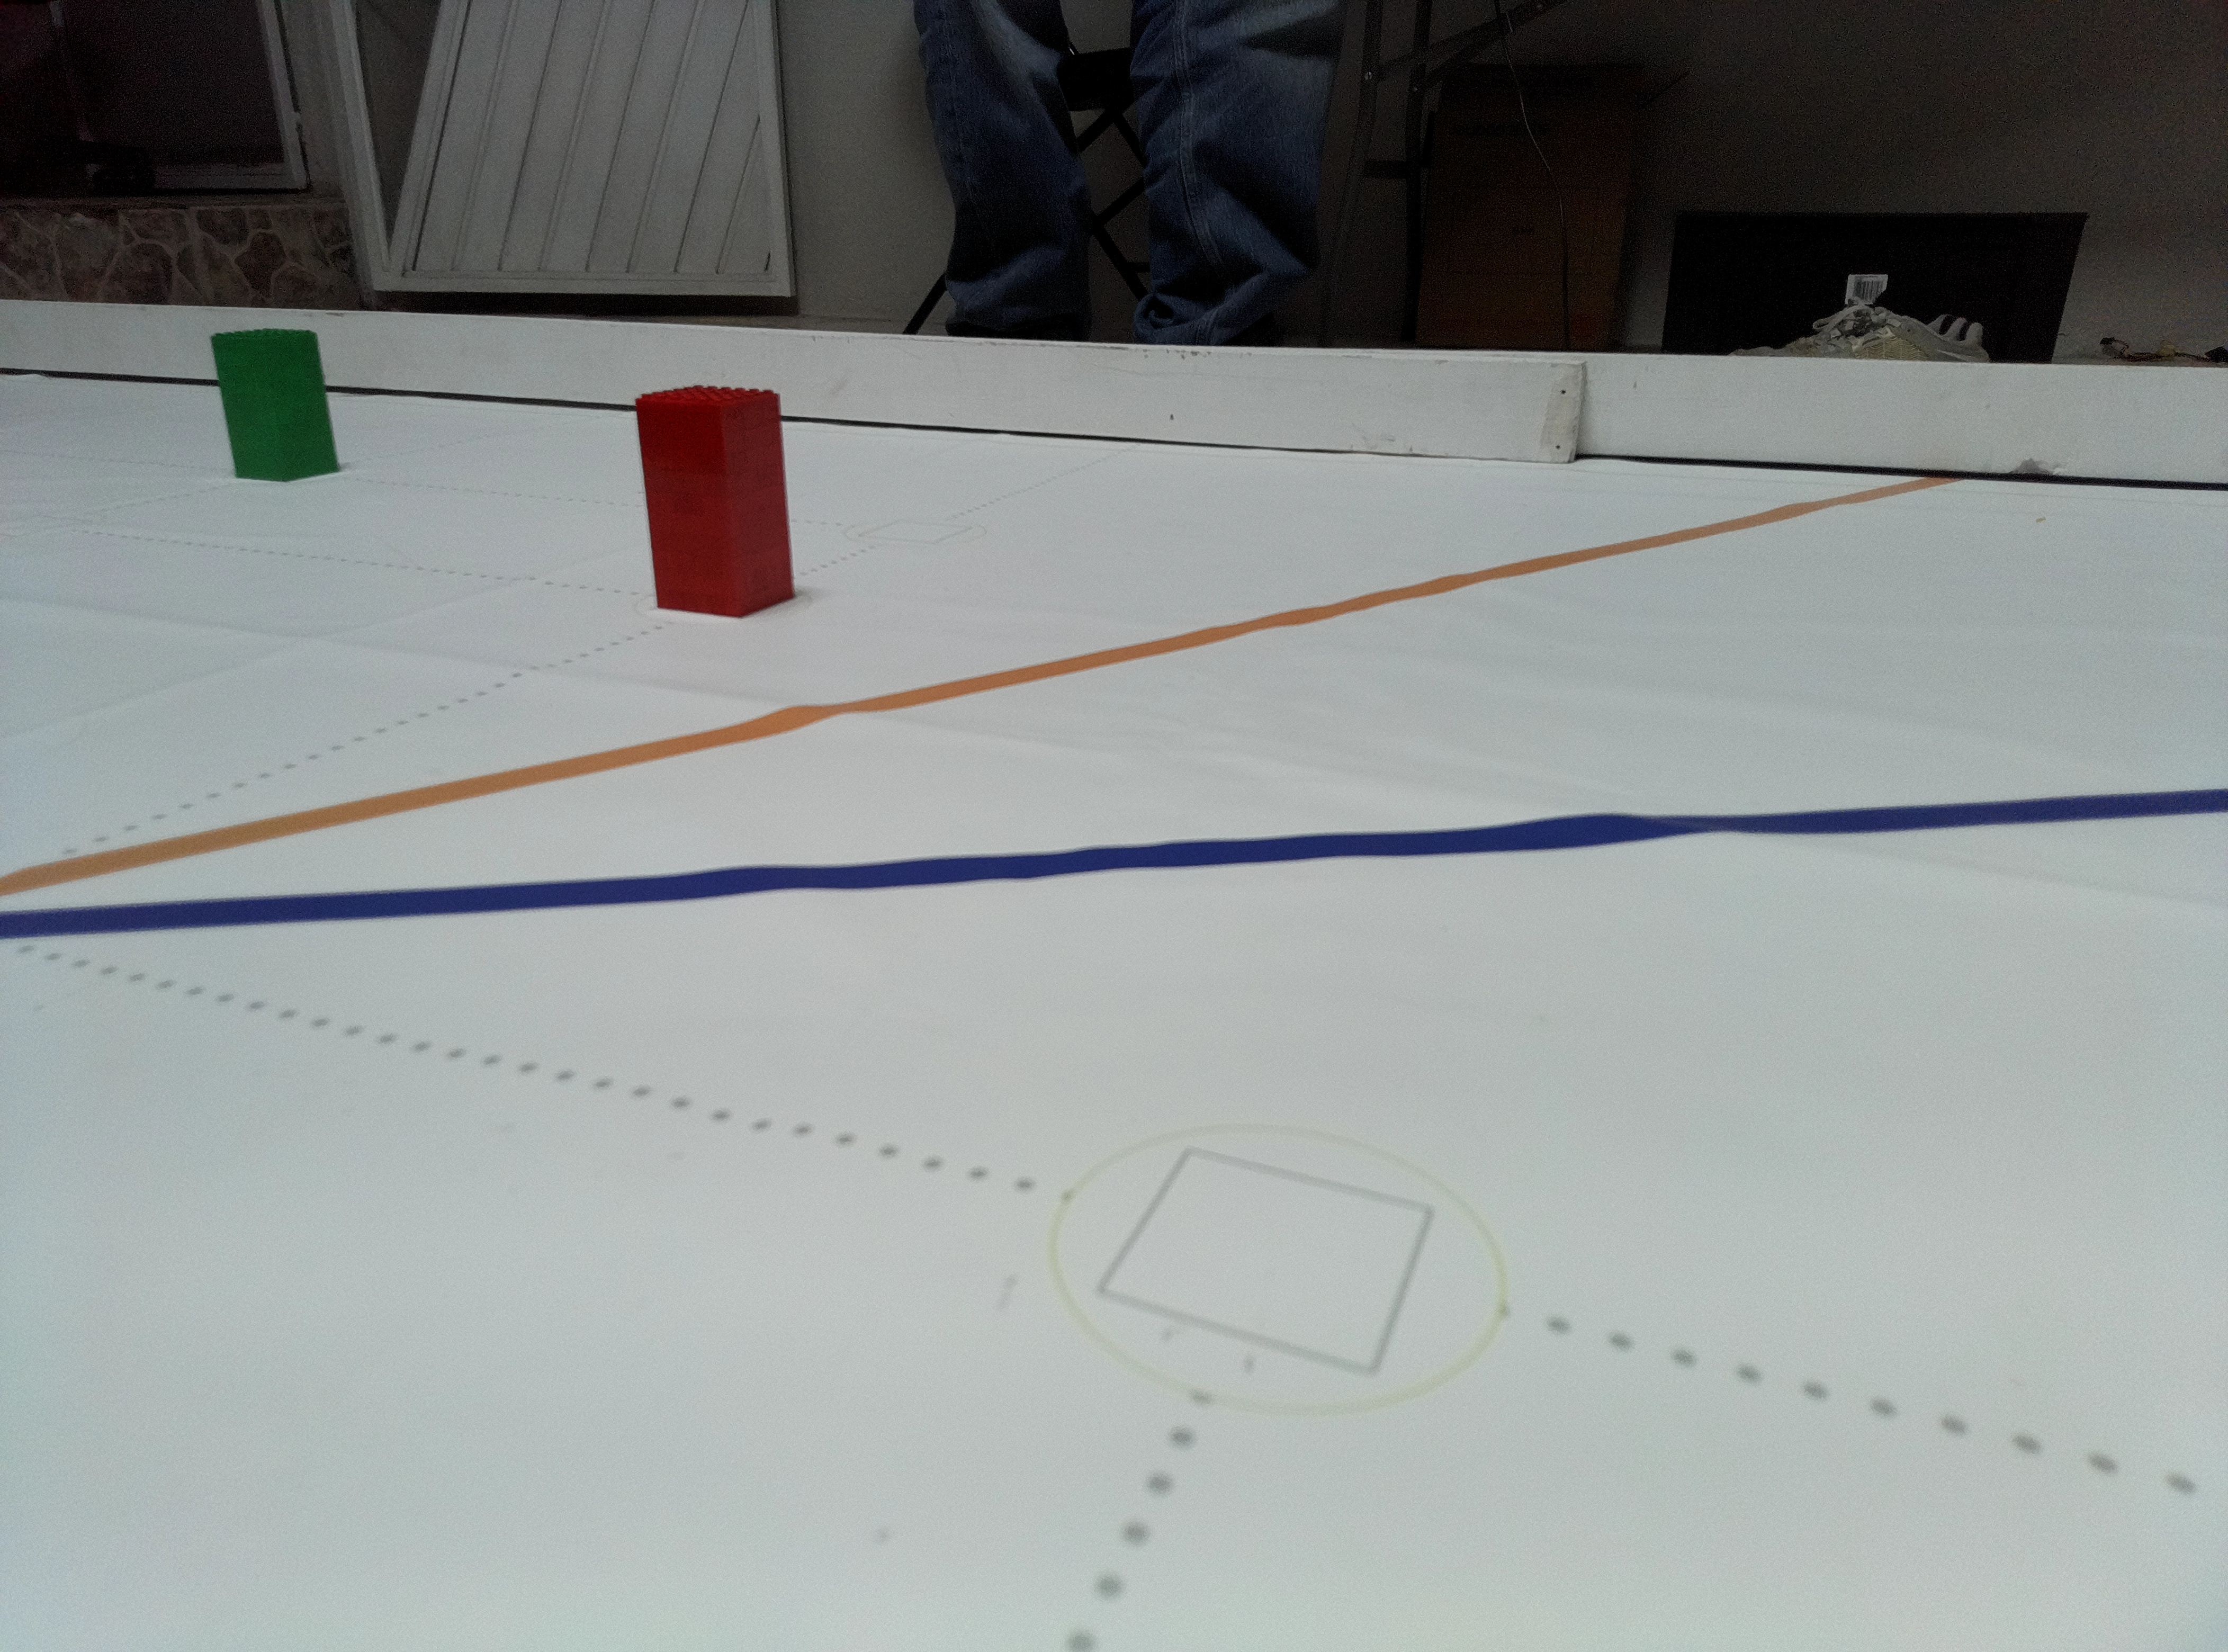greenbox: (213, 314, 345, 489)
redbox: (632, 382, 802, 619)
